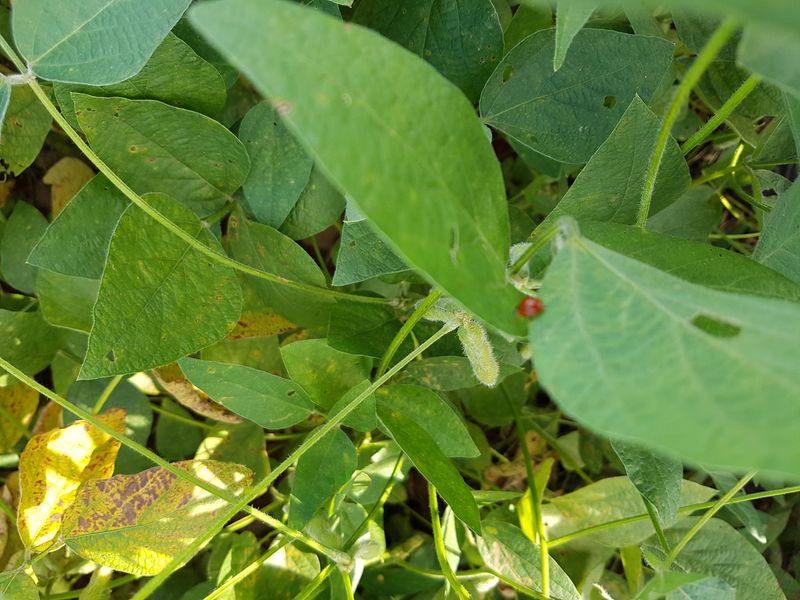Coccinellidae: (508, 286, 550, 328)
